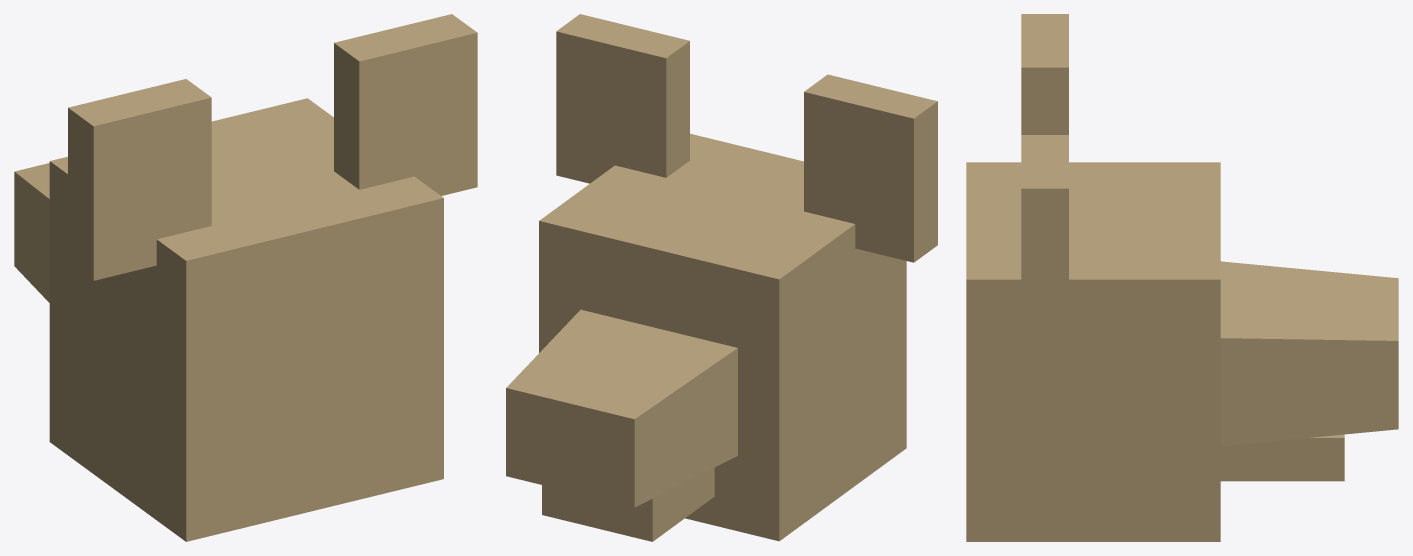
Rendered from sheepdog_head.fbx.
3 renders of one model, left to right at view 1: azimuth 30°, elevation 25°; view 2: azimuth 150°, elevation 25°; view 3: azimuth 270°, elevation 25°, orthographic. The views are drawn at different scales.
Parts seen in each view (by area): view 1: head, ear left, ear right; view 2: head, ear left, ear right, mouth bottom; view 3: head, ear right, ear left, mouth bottom.
Boxes of the visible parts, left/top/right/bottom form: head: left=14, top=98, right=443, bottom=541; ear left: left=68, top=79, right=211, bottom=280; ear right: left=334, top=14, right=477, bottom=195; head: left=506, top=133, right=906, bottom=541; ear left: left=804, top=74, right=937, bottom=262; ear right: left=556, top=14, right=689, bottom=183; mouth bottom: left=542, top=467, right=714, bottom=541; head: left=966, top=162, right=1398, bottom=541; ear right: left=1021, top=135, right=1068, bottom=332; ear left: left=1021, top=14, right=1068, bottom=134; mouth bottom: left=1220, top=434, right=1344, bottom=481.
Bounding box in the file's own units: 2.6 × 2.72 × 2.65.
